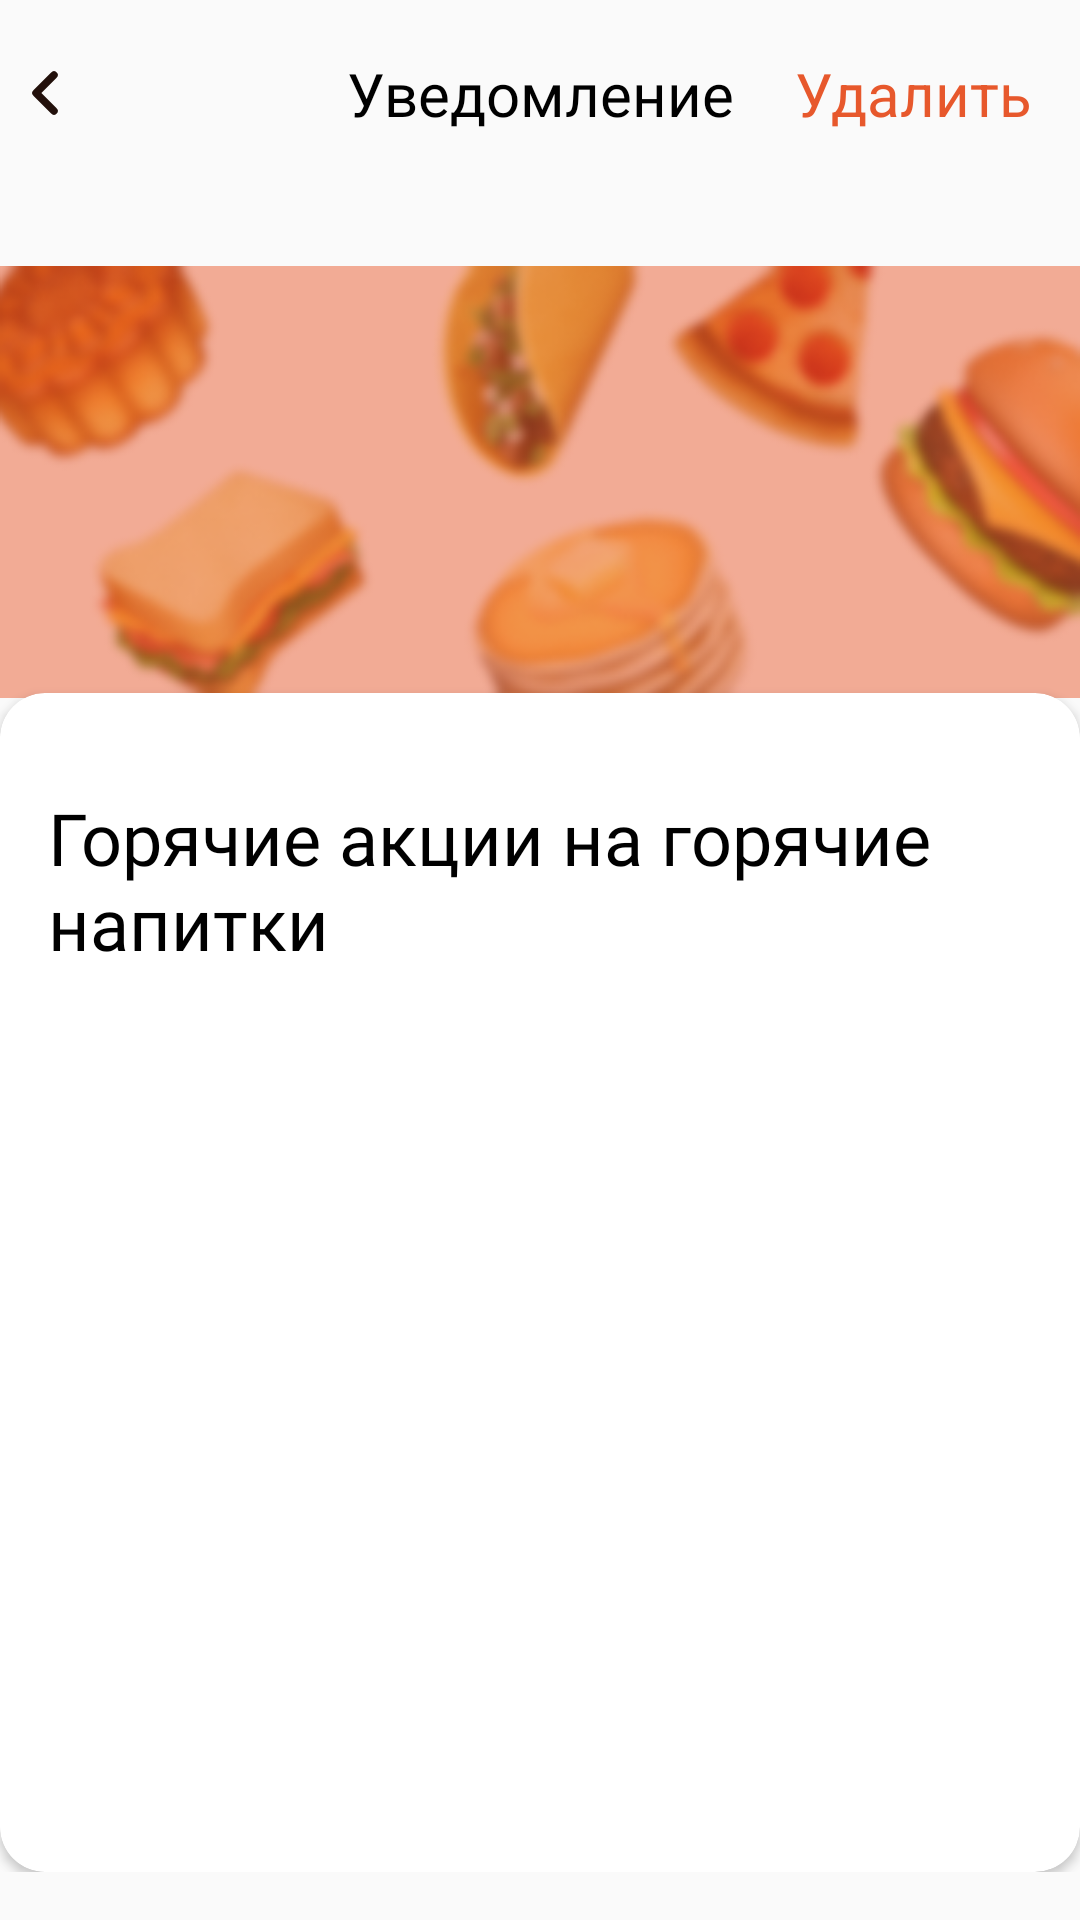

Named icons in this screenshot (1080px x 1920px) and their centers, [x,y]:
arrow back: [45,93]
